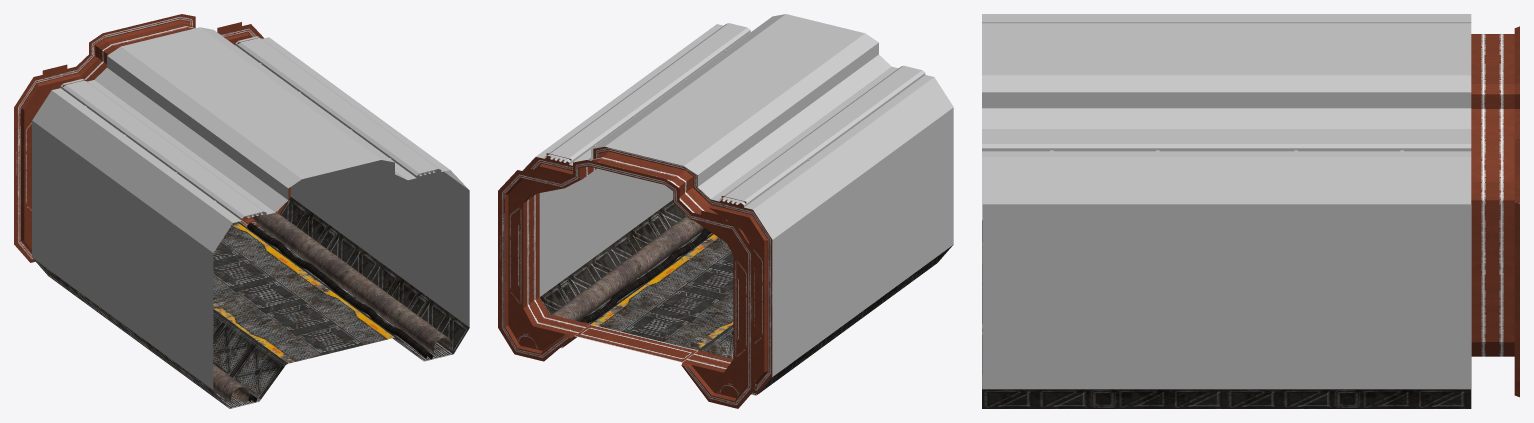
Rendered from Straight_section.FBX.
The picture shows the model from 3 angles, left to right: view 1: azimuth 30°, elevation 25°; view 2: azimuth 150°, elevation 25°; view 3: azimuth 270°, elevation 25°; orthographic projection. The views are drawn at different scales.
Parts seen in each view (by area): view 1: Group001, Plane001; view 2: Group001, Plane001; view 3: Group001, Plane001.
Boxes of the visible parts, <box> form: Group001: <box>32,27,469,408</box>; Plane001: <box>14,14,290,262</box>; Group001: <box>522,14,953,395</box>; Plane001: <box>498,146,772,408</box>; Group001: <box>982,14,1471,408</box>; Plane001: <box>1471,26,1519,397</box>.
Bounding box in the file's own units: 489 × 387 × 659.
